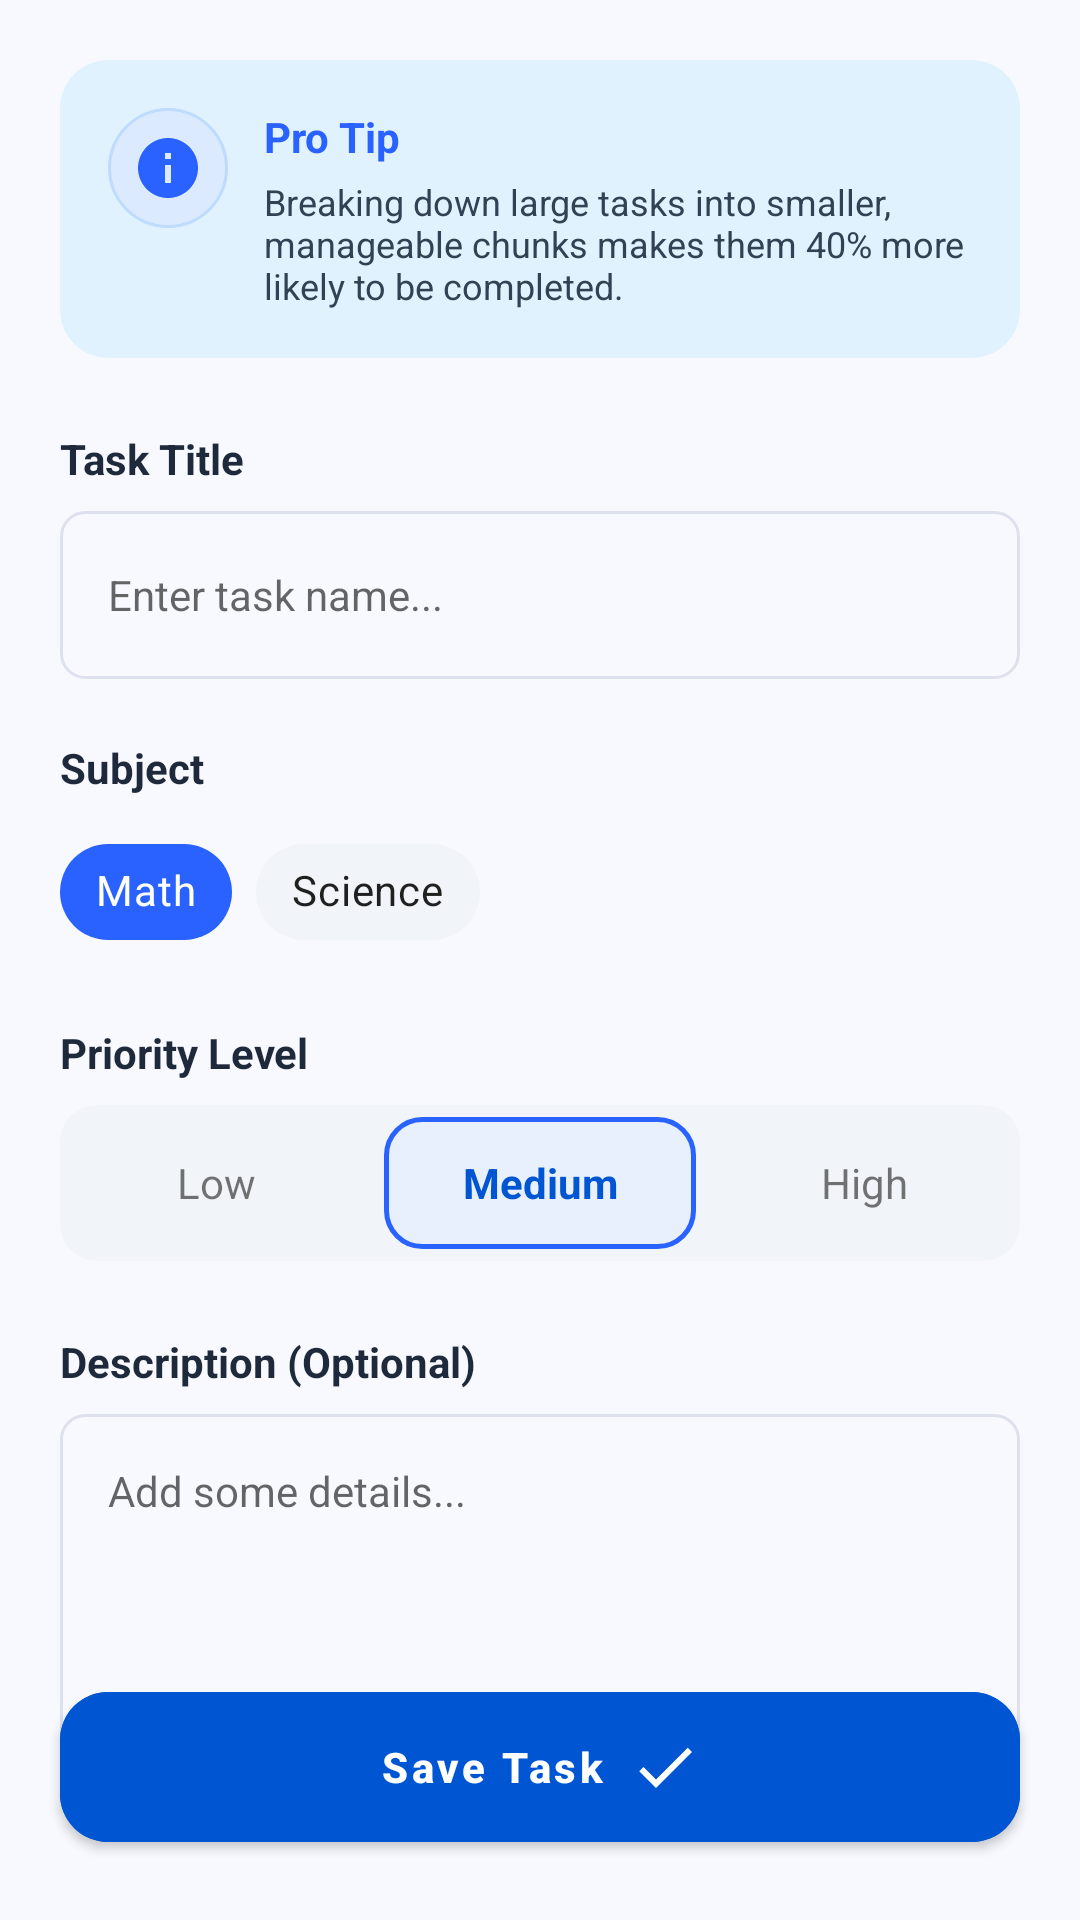

Point at icon controls on the screen. Image size 1080 × 1920, points as (x,y).
info: (168,168)
